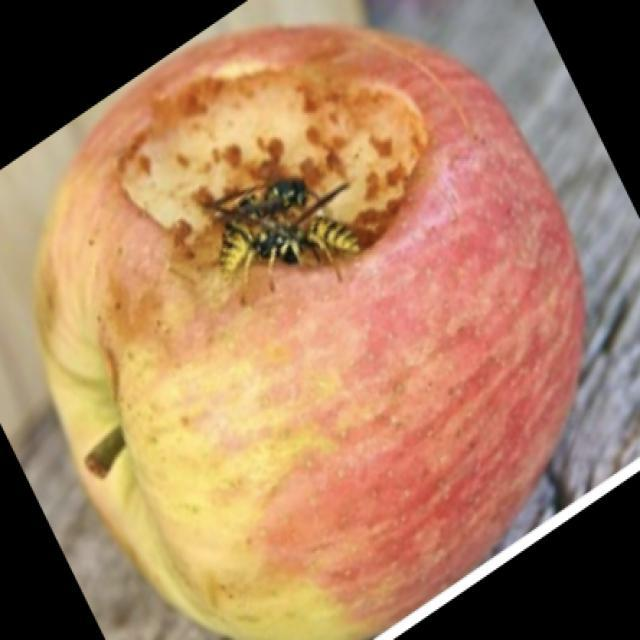Rotten: (45, 40, 558, 623)
